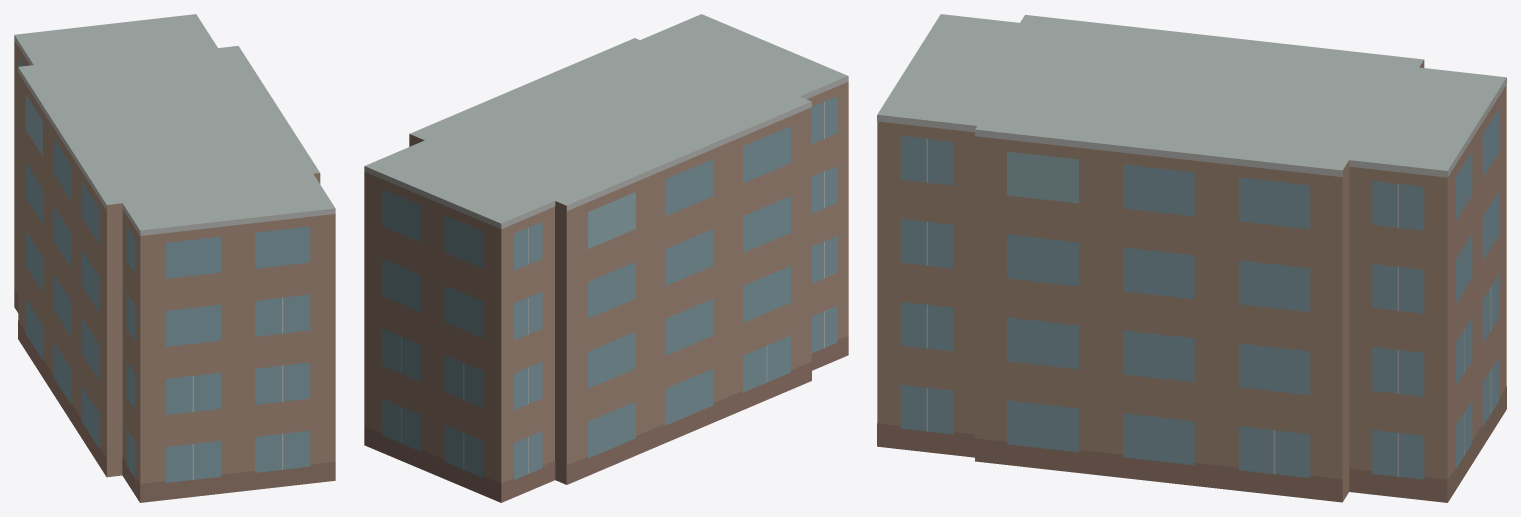
Rendered from survey-upis-32816291.glb.
3 views of the same model, side by side, from view 1: azimuth 30°, elevation 25°; view 2: azimuth 150°, elevation 25°; view 3: azimuth 270°, elevation 25° (orthographic). The views are drawn at different scales.
Visible parts, largest first — view 1: survey-upis-32816291.tmp; view 2: survey-upis-32816291.tmp; view 3: survey-upis-32816291.tmp.
Part boxes in pixels (left/top/right/bottom): survey-upis-32816291.tmp: left=14, top=14, right=335, bottom=502; survey-upis-32816291.tmp: left=364, top=14, right=848, bottom=502; survey-upis-32816291.tmp: left=877, top=14, right=1506, bottom=502.
Size of the model in its own units: 12.39 by 12.2 by 20.99.
